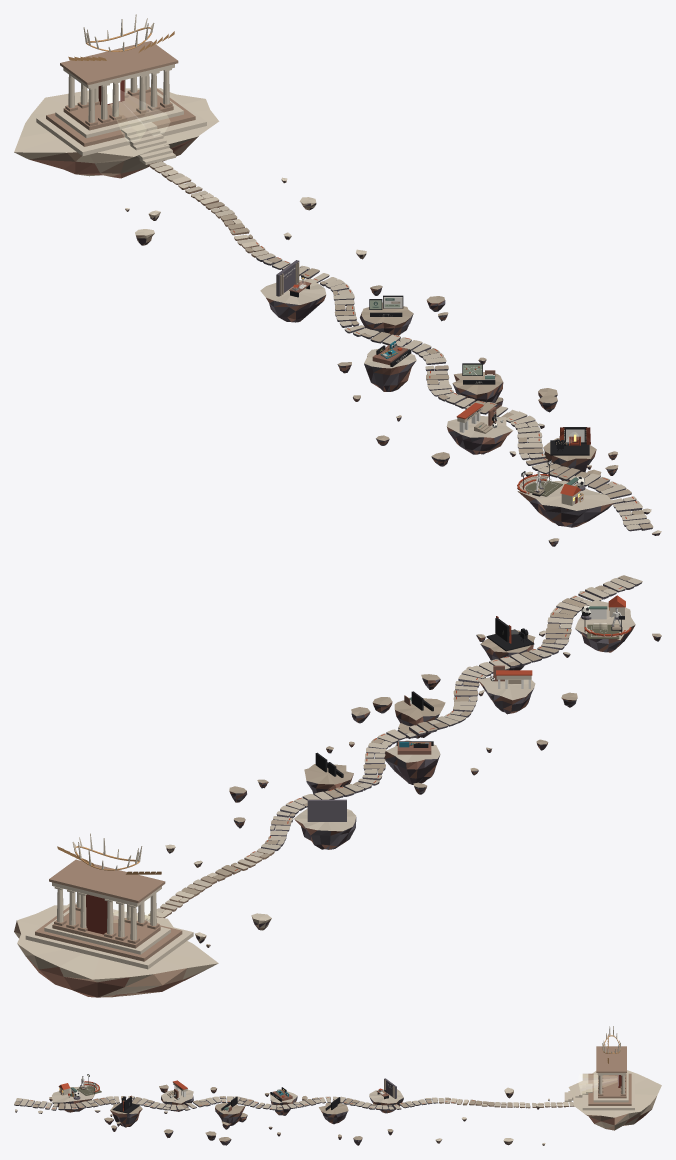
Rendered from first-person.glb.
3 views of the same model, one above another, from view 1: azimuth 30°, elevation 25°; view 2: azimuth 150°, elevation 25°; view 3: azimuth 270°, elevation 25° (orthographic). The views are drawn at different scales.
Visible parts, largest first — view 1: Monument / suspended bedrock, Monument / cornice, Infanzia, famiglia e calcio / isola, Politecnico di Milano / isola, Università di Camerino / isola, Monument / terrace 1, Monument / terrace 4, Dormant Access Control Unit / isola, Monument / terrace 2, Monument / terrace 3, UniStays · chat e inviti / isola, UniStays · mappa e stanze / isola; view 2: Monument / suspended bedrock, Monument / cornice, Monument / terrace 1, Politecnico di Milano / isola, Dormant Access Control Unit / isola, Università di Camerino / isola, Monument / terrace 2, Infanzia, famiglia e calcio / isola, Monument / terrace 4, UniStays · mappa e stanze / isola, UniStays · chat e inviti / isola, Politecnico / quinta (+3 smaller); view 3: Monument / suspended bedrock, Monument / cornice, Monument / terrace 1, Infanzia, famiglia e calcio / isola, Monument / terrace 4, UniStays · mappa e stanze / isola, Monument / terrace 2, Politecnico di Milano / isola, UniStays · chat e inviti / isola, Cinema / isola, Università di Camerino / isola, Monument / terrace 3 (+3 smaller).
Part boxes in pixels (x1,y1,x2,y2): Monument / suspended bedrock: (14, 88, 219, 178); Monument / cornice: (60, 41, 178, 85); Infanzia, famiglia e calcio / isola: (517, 480, 613, 527); Politecnico di Milano / isola: (260, 278, 326, 322); Università di Camerino / isola: (446, 415, 512, 454); Monument / terrace 1: (36, 88, 206, 155); Monument / terrace 4: (63, 90, 173, 130); Dormant Access Control Unit / isola: (364, 346, 416, 391); Monument / terrace 2: (46, 88, 195, 146); Monument / terrace 3: (55, 91, 183, 138); UniStays · chat e inviti / isola: (360, 302, 413, 335); UniStays · mappa e stanze / isola: (452, 372, 503, 405); Monument / suspended bedrock: (14, 905, 218, 997); Monument / cornice: (49, 859, 165, 903); Monument / terrace 1: (25, 903, 193, 969); Politecnico di Milano / isola: (294, 808, 356, 849); Dormant Access Control Unit / isola: (384, 740, 440, 784); Università di Camerino / isola: (478, 677, 535, 714); Monument / terrace 2: (35, 904, 182, 961); Infanzia, famiglia e calcio / isola: (575, 600, 635, 652); Monument / terrace 4: (52, 910, 160, 948); UniStays · mappa e stanze / isola: (394, 698, 445, 738); UniStays · chat e inviti / isola: (304, 764, 353, 799); Politecnico / quinta: (307, 799, 346, 821); Monument / suspended bedrock: (568, 1070, 661, 1130); Monument / cornice: (596, 1046, 626, 1072); Monument / terrace 1: (582, 1073, 634, 1110); Infanzia, famiglia e calcio / isola: (52, 1086, 95, 1112); Monument / terrace 4: (598, 1073, 626, 1098); UniStays · mappa e stanze / isola: (215, 1103, 245, 1125); Monument / terrace 2: (588, 1073, 631, 1105); Politecnico di Milano / isola: (369, 1089, 403, 1113); UniStays · chat e inviti / isola: (319, 1102, 348, 1124); Cinema / isola: (110, 1102, 142, 1127); Università di Camerino / isola: (161, 1089, 193, 1111); Monument / terrace 3: (593, 1073, 628, 1102).
Size of the model in its own units: 48.84 by 32.91 by 224.
